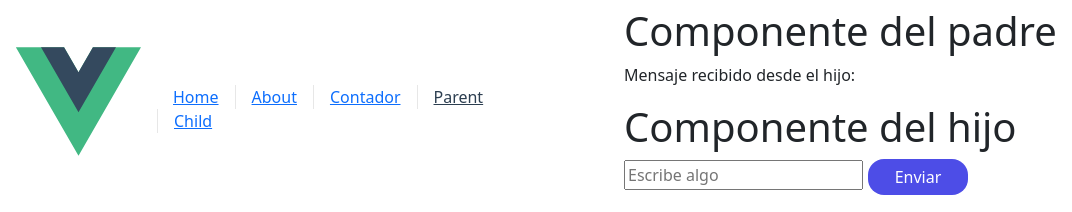
Test: Prueba de envío de mensaje desde Child a Parent › Verifica que el mensaje se envíe correctamente desde Child a Parent
This screenshot has width=1072, height=212.
# Escribe un mensaje en el campo de texto del Child
Type "¡Hola desde el Child!" into the field with placeholder "Escribe algo" at coordinates (744, 175), box x1=624 y1=160 x2=863 y2=190
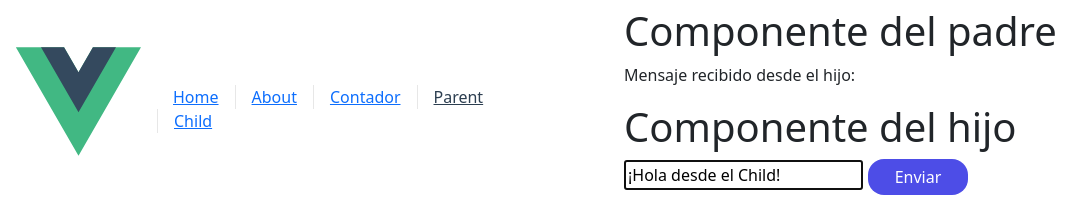
# Haz clic en el botón "Enviar" del Child
Click the button "Enviar" at coordinates (918, 177), box x1=868 y1=159 x2=968 y2=195
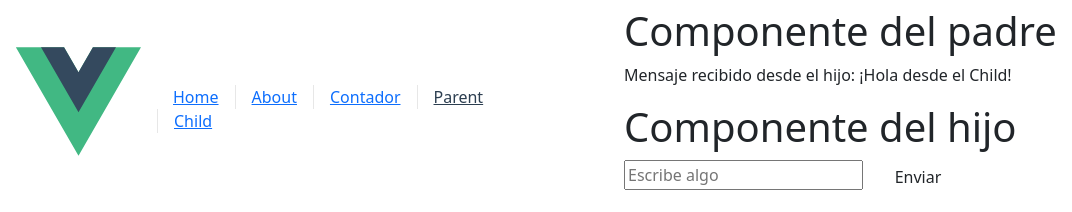
Now the text "Mensaje recibido desde el hijo: ¡Hola desde el Child!" is shown, box x1=624 y1=64 x2=1012 y2=86
